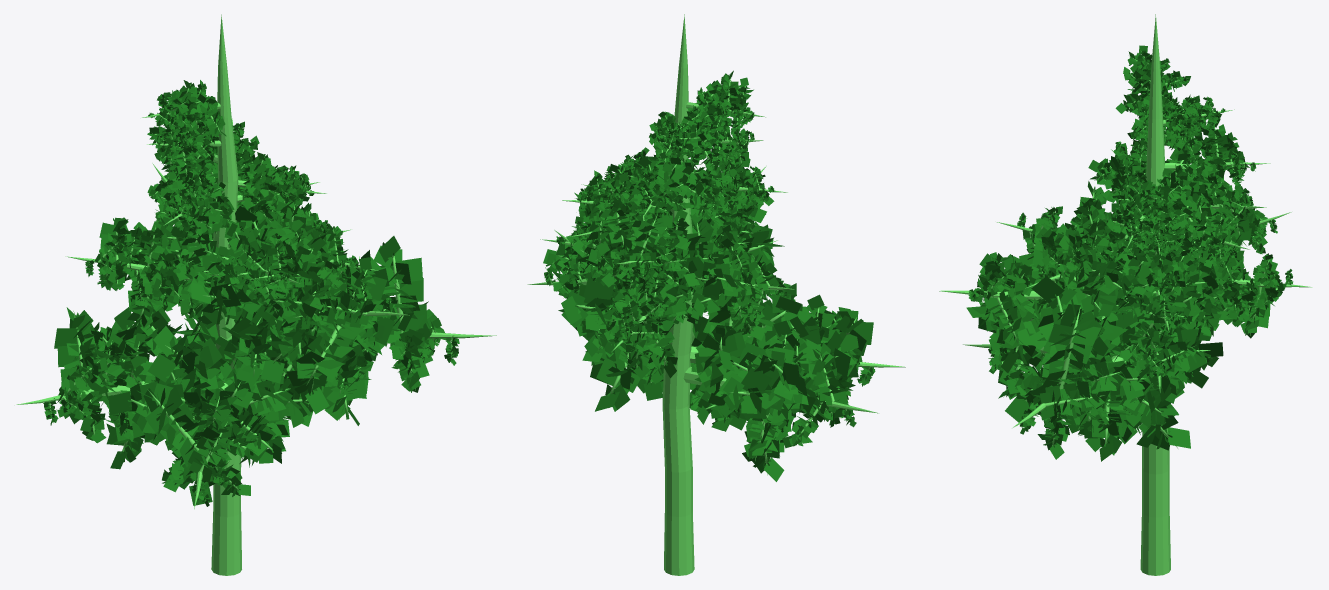
File: Tree 4.fbx
The picture shows the model from 3 angles, left to right: view 1: azimuth 30°, elevation 25°; view 2: azimuth 150°, elevation 25°; view 3: azimuth 270°, elevation 25°; orthographic projection.
Visible parts, largest first — view 1: Tree2.007; view 2: Tree2.007; view 3: Tree2.007.
Part boxes in pixels (x1,y1,x2,y2): Tree2.007: (16,14,496,575); Tree2.007: (527,14,905,575); Tree2.007: (939,14,1312,575).
Bounding box in the file's own units: 4566 × 5999 × 3719.
